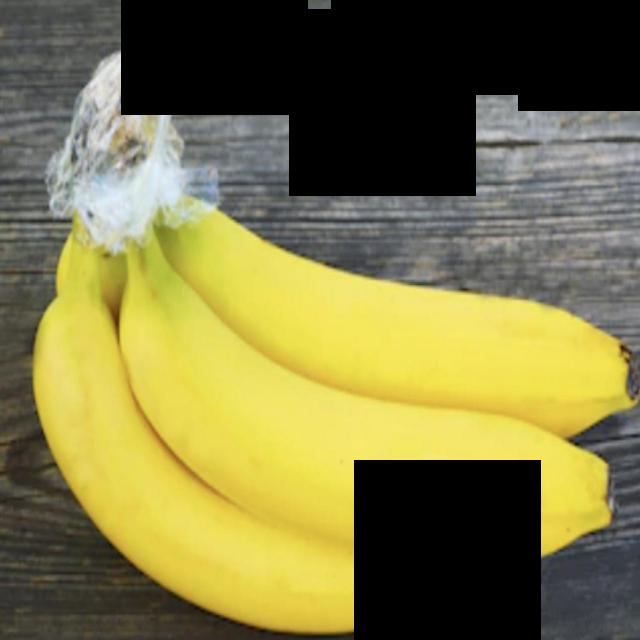banana: (97, 197, 640, 574), (28, 152, 450, 637), (128, 126, 640, 433)
